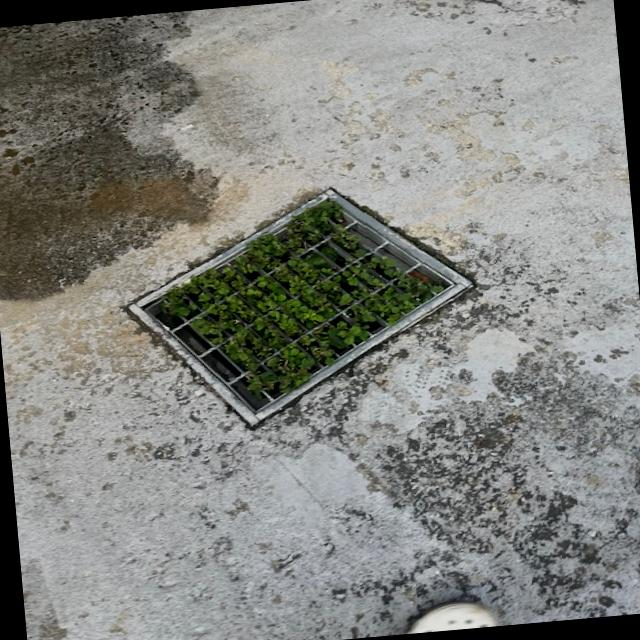drain_area: (147, 305, 283, 412), (334, 211, 453, 289)
drain_full: (143, 199, 456, 414)
